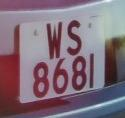1: (87, 48, 99, 93)
6: (50, 57, 71, 97)
8: (30, 58, 52, 101), (69, 54, 89, 94)
S: (65, 15, 85, 60)
W: (43, 17, 66, 62)
